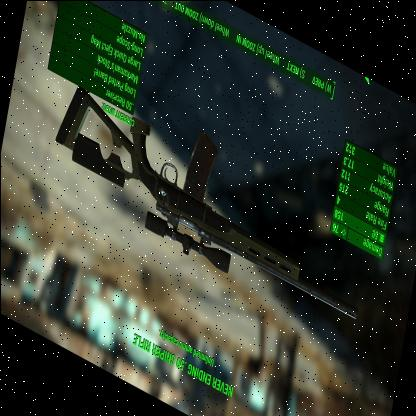rifle: (49, 77, 374, 337)
